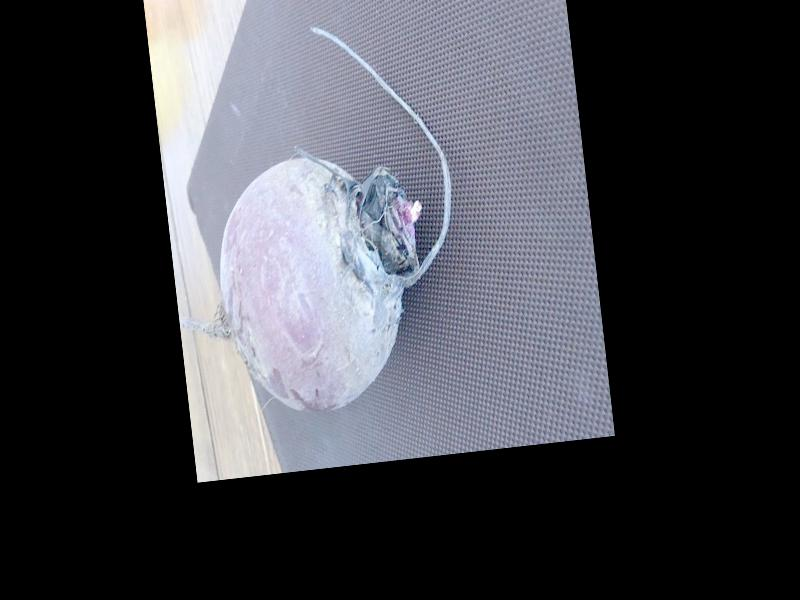Beet: (149, 12, 474, 427)
